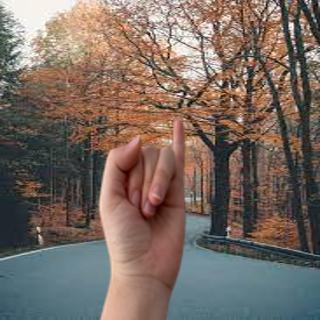Fine: (93, 114, 198, 296)
